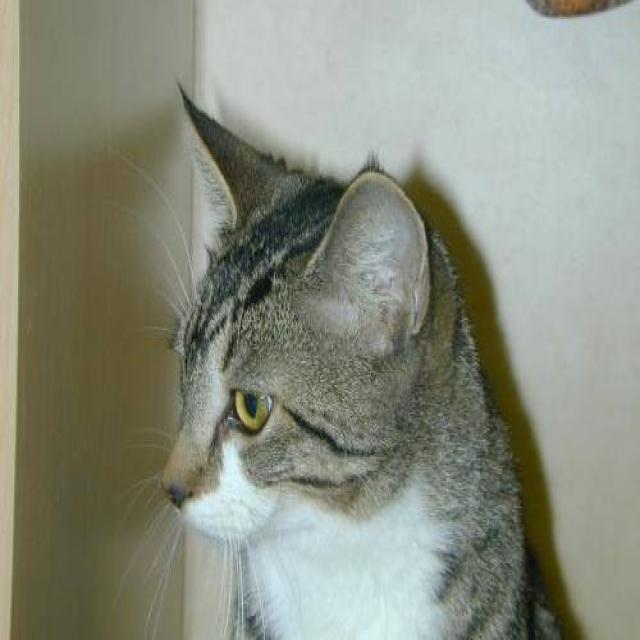cat: (110, 79, 575, 638)
